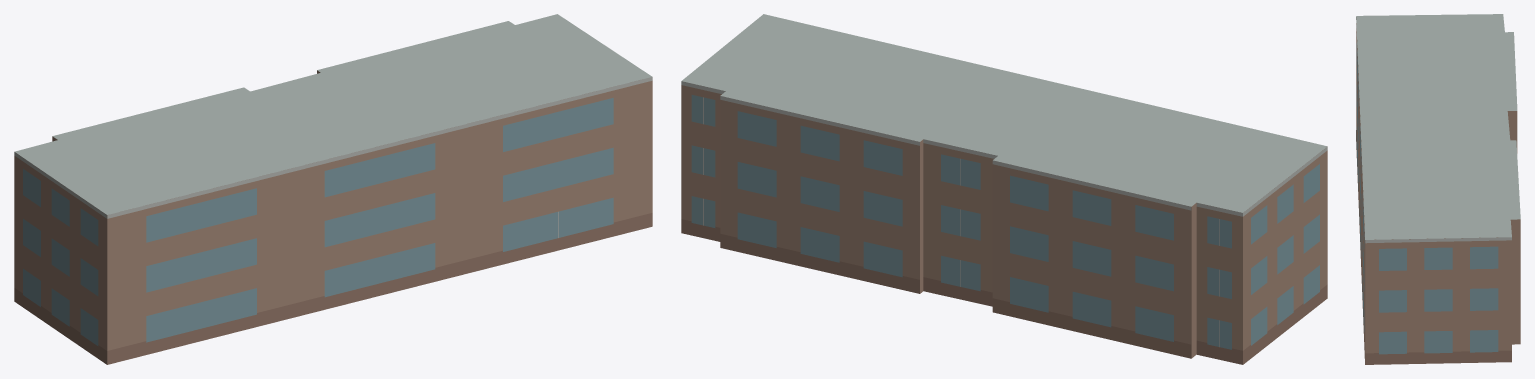
The model's file is survey-upis-33039114.glb.
3 renders of one model, left to right at view 1: azimuth 30°, elevation 25°; view 2: azimuth 150°, elevation 25°; view 3: azimuth 270°, elevation 25°, orthographic. The views are drawn at different scales.
Visible parts, largest first — view 1: survey-upis-33039114.tmp; view 2: survey-upis-33039114.tmp; view 3: survey-upis-33039114.tmp.
Part boxes in pixels (<box>): survey-upis-33039114.tmp: <box>14,14,652,364</box>; survey-upis-33039114.tmp: <box>681,14,1327,364</box>; survey-upis-33039114.tmp: <box>1356,14,1520,364</box>.
Size of the model in its own units: 36.85 by 9.5 by 11.35.
